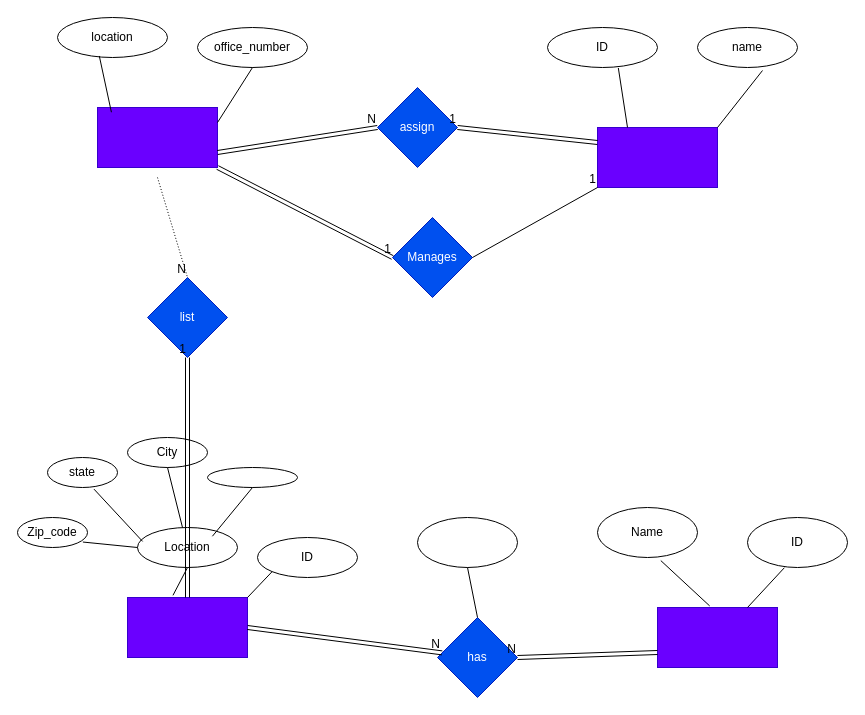
Some shapes in this 865 by 715 pixel diagram are drawn without their labels. The shapes that lost their labels are listed below. From the top down, each one's box as (x1, y1, x2, y2) in pixels, then its label:
(96, 106, 218, 168): Sales Offices
(596, 126, 718, 188): Employee
(206, 466, 298, 488): Addess
(416, 516, 518, 568): Percent_owned
(126, 596, 248, 658): Property
(656, 606, 778, 668): Owner
